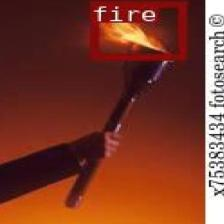fire: (89, 0, 184, 58)
